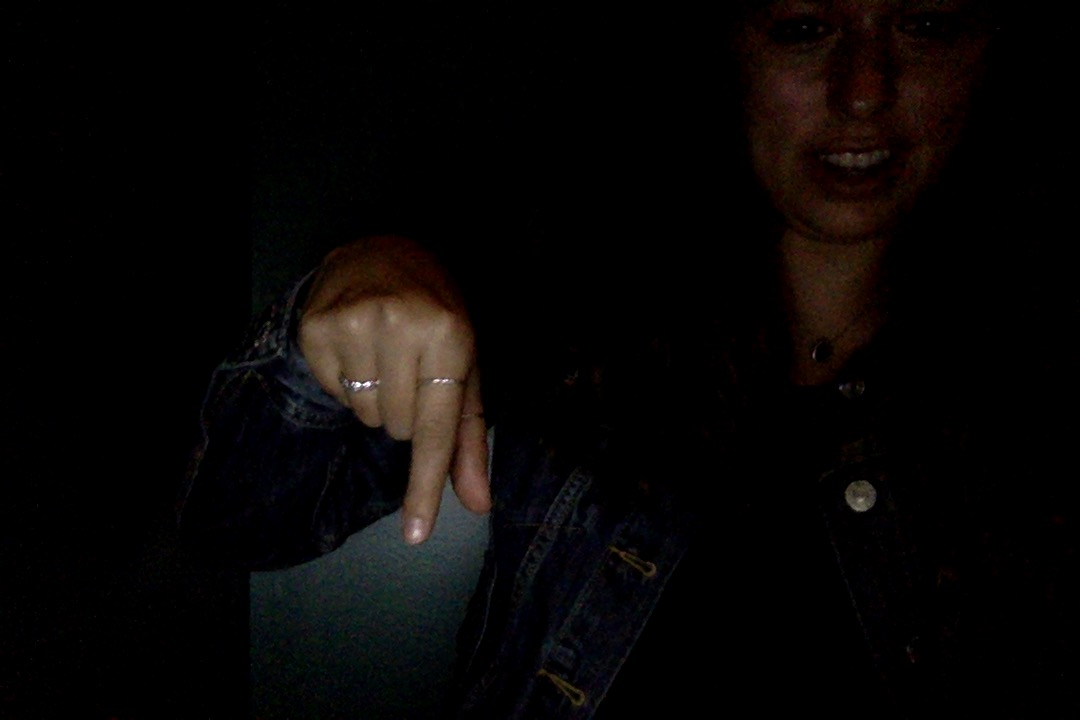q: (272, 212, 526, 566)
